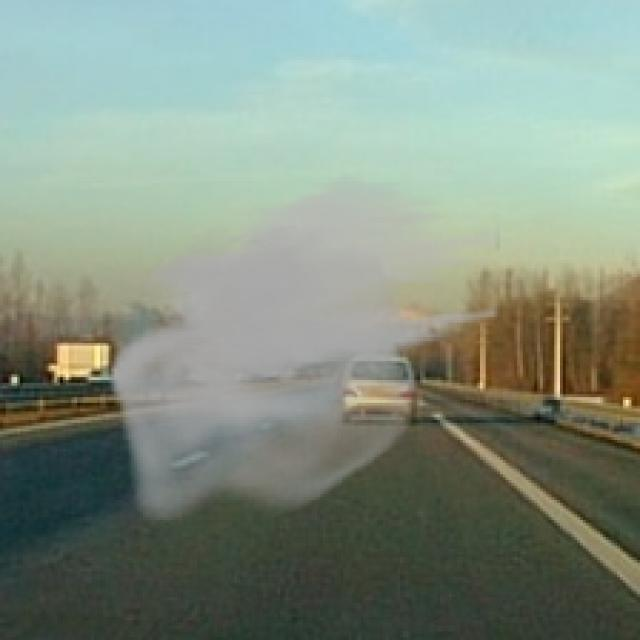Smoke: (108, 171, 500, 523)
